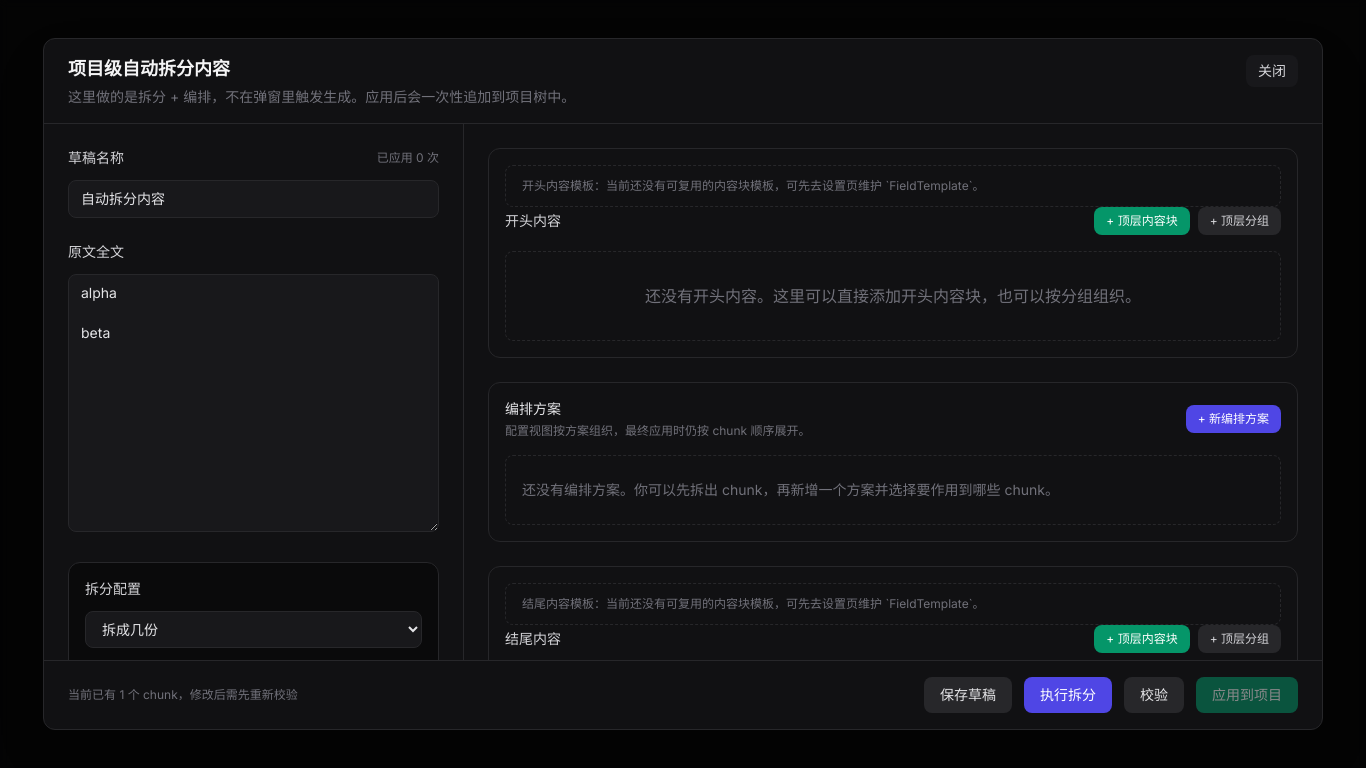
Test: ProjectAutoSplitModal › disables apply until validation succeeds and shows preview after validate
Expected: the button "应用到项目" is disabled, x1=1196 y1=677 x2=1298 y2=713
Click the button "校验" at (1154, 695), box x1=1124 y1=677 x2=1184 y2=713
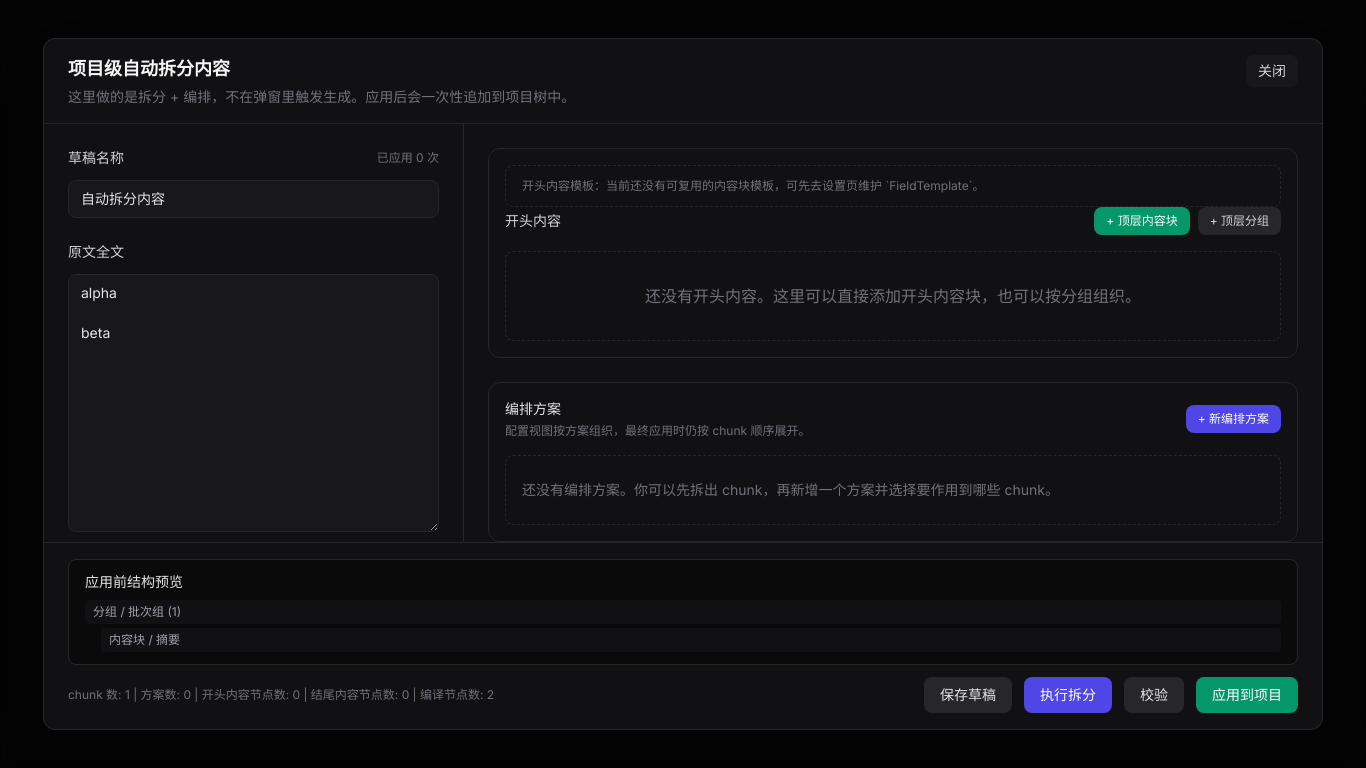
Expected: the text "应用前结构预览" is shown, x1=85 y1=573 x2=183 y2=590
Expected: the text "分组 / 批次组 (1)" is shown, x1=85 y1=600 x2=1281 y2=624
Expected: the text "内容块 / 摘要" is shown, x1=101 y1=628 x2=1281 y2=652
